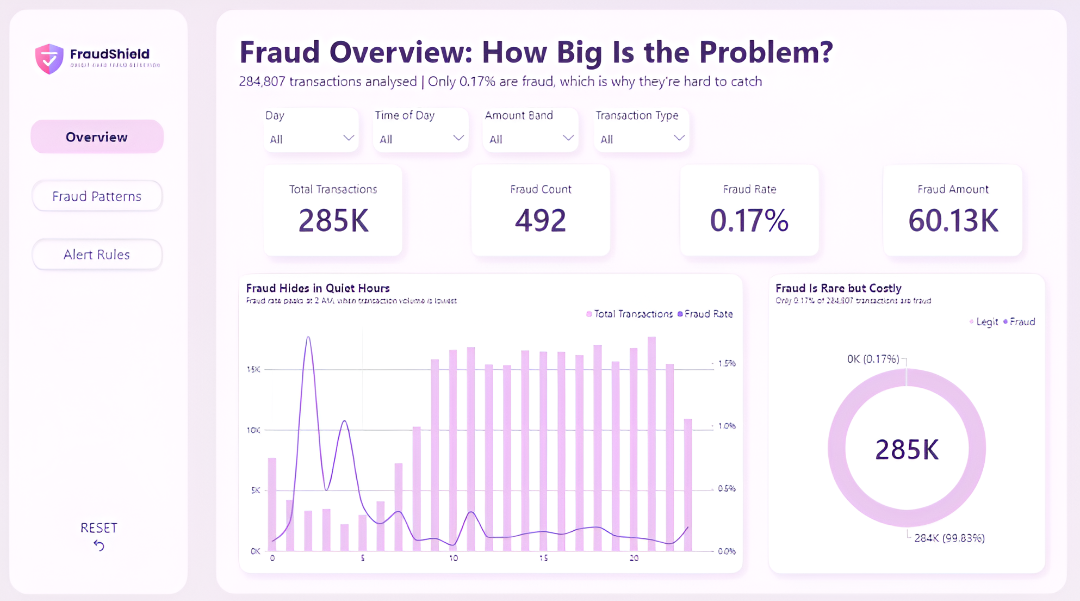

What the dashboard file says about the page in this screenshot:
{"tool":"powerbi","page":{"name":"Overview","canvas":[2560,1440],"ordinal":0},"visuals":[{"type":"shape","box":[28.2,25.6,420.5,1379.5],"z":0},{"type":"shape","box":[515.4,25.6,2007.7,1379.5],"z":1000},{"type":"image","box":[71.8,84.6,325.6,117.9],"z":2000},{"type":"pageNavigator","box":[71.8,279.5,325.6,369.2],"z":3000},{"type":"actionButton","box":[133.3,1217.9,212.8,97.4],"z":4000},{"type":"cardVisual","fields":{"Data":["_Measures.Fraud Count"]},"box":[1114.1,390.2,331.3,220.9],"z":5000},{"type":"cardVisual","fields":{"Data":["_Measures.Fraud Rate"]},"box":[1607.4,390.2,331.3,220.9],"z":6000},{"type":"cardVisual","fields":{"Data":["_Measures.Total Transactions"]},"box":[625.8,390.2,331.3,220.9],"z":7000},{"type":"cardVisual","fields":{"Data":["_Measures.Fraud Amount"]},"box":[2088.4,390.2,331.3,220.9],"z":8000},{"type":"donutChart","title":"Fraud Is Rare but Costly","fields":{"Category":["fraud_clean.label"],"Y":["_Measures.Total Transactions"]},"box":[1817.9,648.7,653.8,707.7],"z":9000},{"type":"lineClusteredColumnComboChart","title":"Fraud Hides in Quiet Hours","fields":{"Category":["fraud_clean.hour"],"Y":["_Measures.Total Transactions"],"Y2":["_Measures.Fraud Rate"]},"box":[569.2,648.7,1189.7,707.7],"z":10000},{"type":"textbox","title":"Fraud Overview: How Big Is the Problem?","box":[569.2,74.4,1430.8,153.8],"z":11000},{"type":"slicer","title":"Day","fields":{"Values":["fraud_clean.day"]},"box":[625.8,255.2,228.2,108],"z":12000},{"type":"slicer","title":"Time of Day","fields":{"Values":["fraud_clean.time_bucket"]},"box":[883.4,255.2,228.2,108],"z":13000},{"type":"slicer","title":"Amount Band","fields":{"Values":["fraud_clean.amount_band"]},"box":[1143.6,255.2,228.2,108],"z":14000},{"type":"slicer","title":"Transaction Type","fields":{"Values":["fraud_clean.label"]},"box":[1406.1,255.2,228.2,108],"z":15000}]}

Visuals, with their boxes in screenshot pixels (x1, y1, x2, y2), scaled from the page's 2560x1440 canvas onto the 1080x601 screenshot:
shape: (12, 11, 189, 586)
shape: (217, 11, 1064, 586)
image: (30, 35, 168, 85)
pageNavigator: (30, 117, 168, 271)
actionButton: (56, 508, 146, 549)
cardVisual - _Measures.Fraud Count: (470, 163, 610, 255)
cardVisual - _Measures.Fraud Rate: (678, 163, 818, 255)
cardVisual - _Measures.Total Transactions: (264, 163, 404, 255)
cardVisual - _Measures.Fraud Amount: (881, 163, 1021, 255)
"Fraud Is Rare but Costly" donutChart: (767, 271, 1043, 566)
"Fraud Hides in Quiet Hours" lineClusteredColumnComboChart: (240, 271, 742, 566)
"Fraud Overview: How Big Is the Problem?" textbox: (240, 31, 844, 95)
"Day" slicer: (264, 107, 360, 152)
"Time of Day" slicer: (373, 107, 469, 152)
"Amount Band" slicer: (482, 107, 579, 152)
"Transaction Type" slicer: (593, 107, 689, 152)
